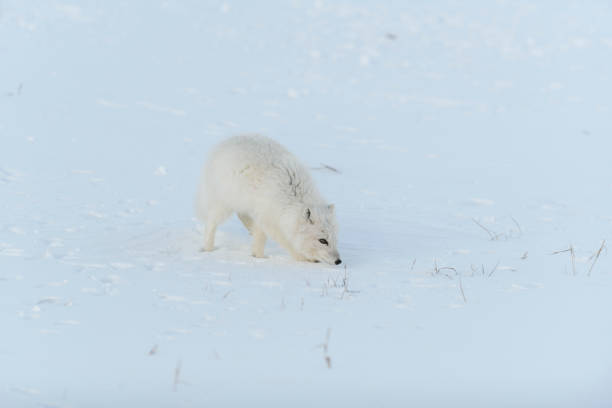arcticfox: (302, 213, 341, 270)
